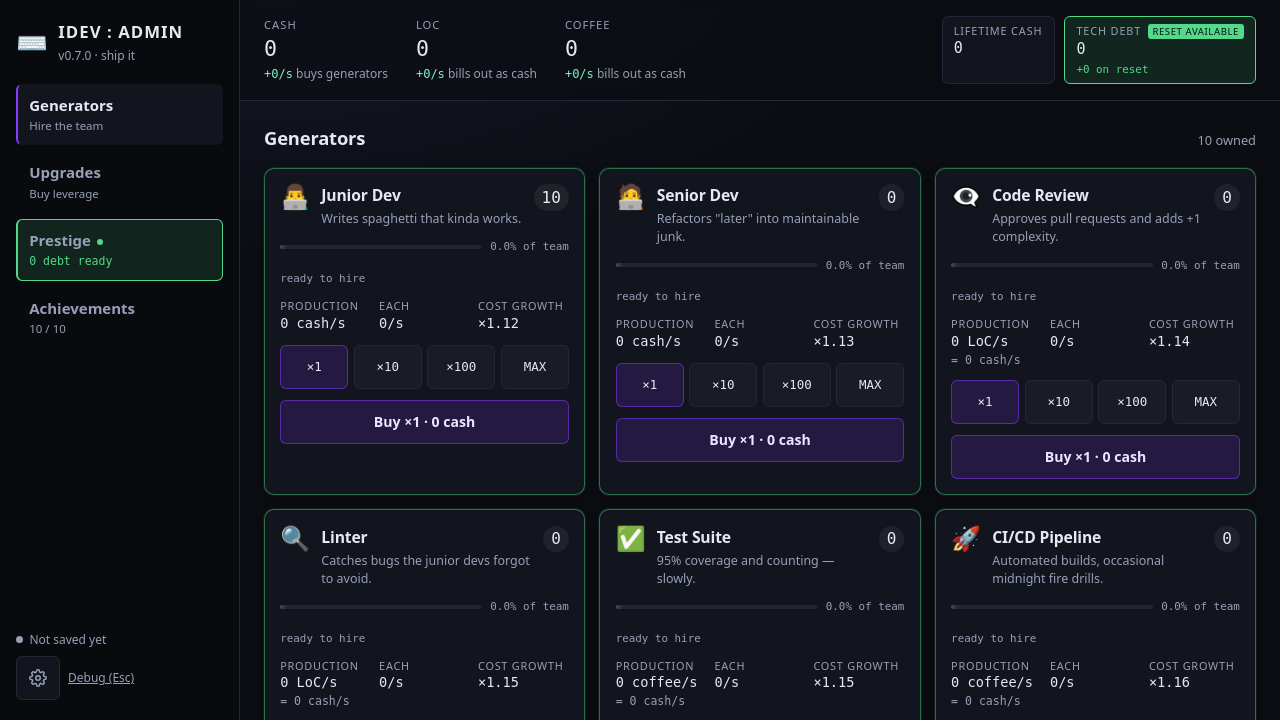
Scenario: App – save export and import › opens from the prestige panel and shows the current save
What coordinates should you click on to do the following:
click the button "Prestige 0 debt ready"
I would click on:
 (120, 250)
Its box is x1=16 y1=219 x2=223 y2=280.
(page scrolled)
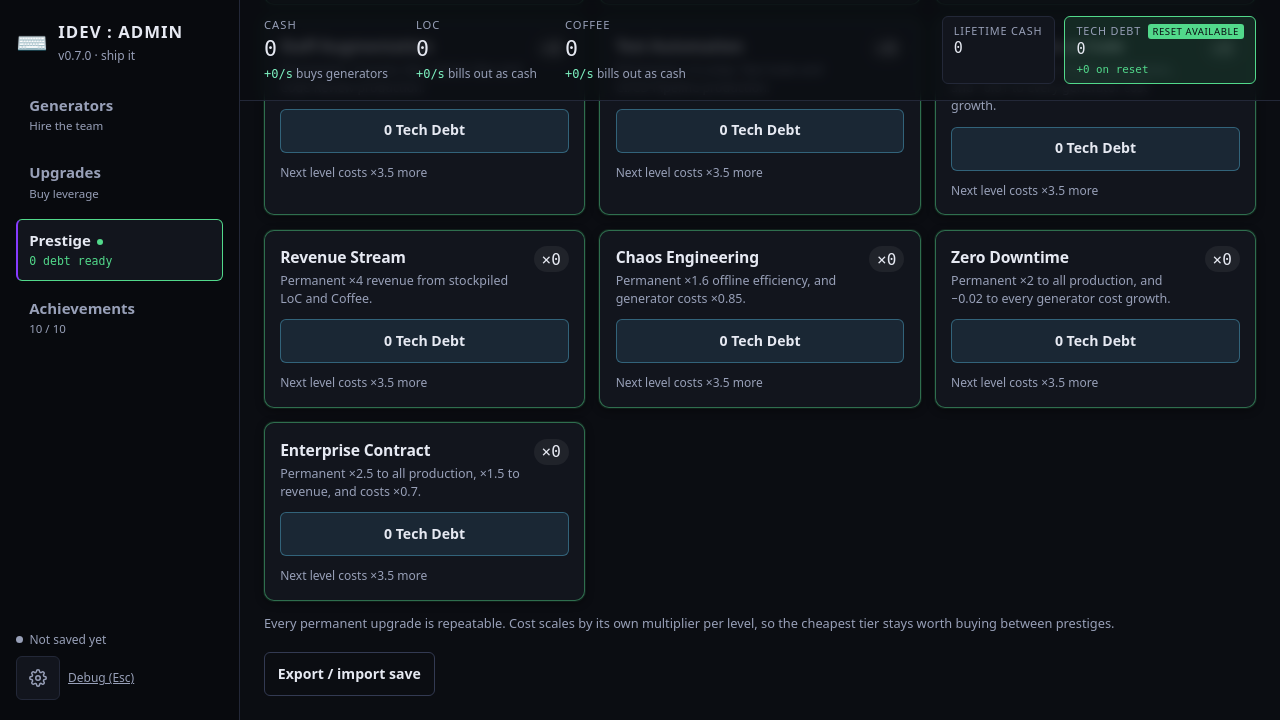
What coordinates should you click on to do the following:
click the button "Export / import save"
I would click on:
 (349, 674)
Its box is x1=264 y1=652 x2=435 y2=696.
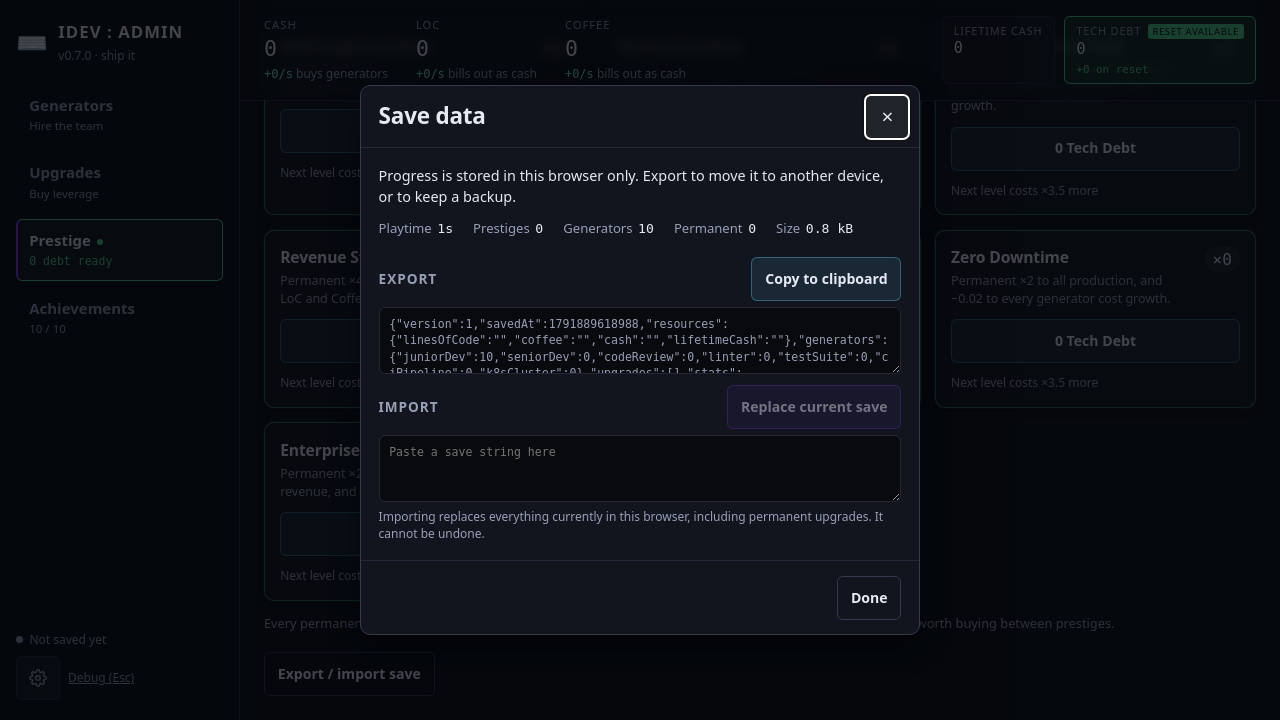
Now the dialog is shown, box x1=360 y1=85 x2=920 y2=635
Now the text "Progress is stored in this browser only" is shown, box x1=379 y1=166 x2=884 y2=206
